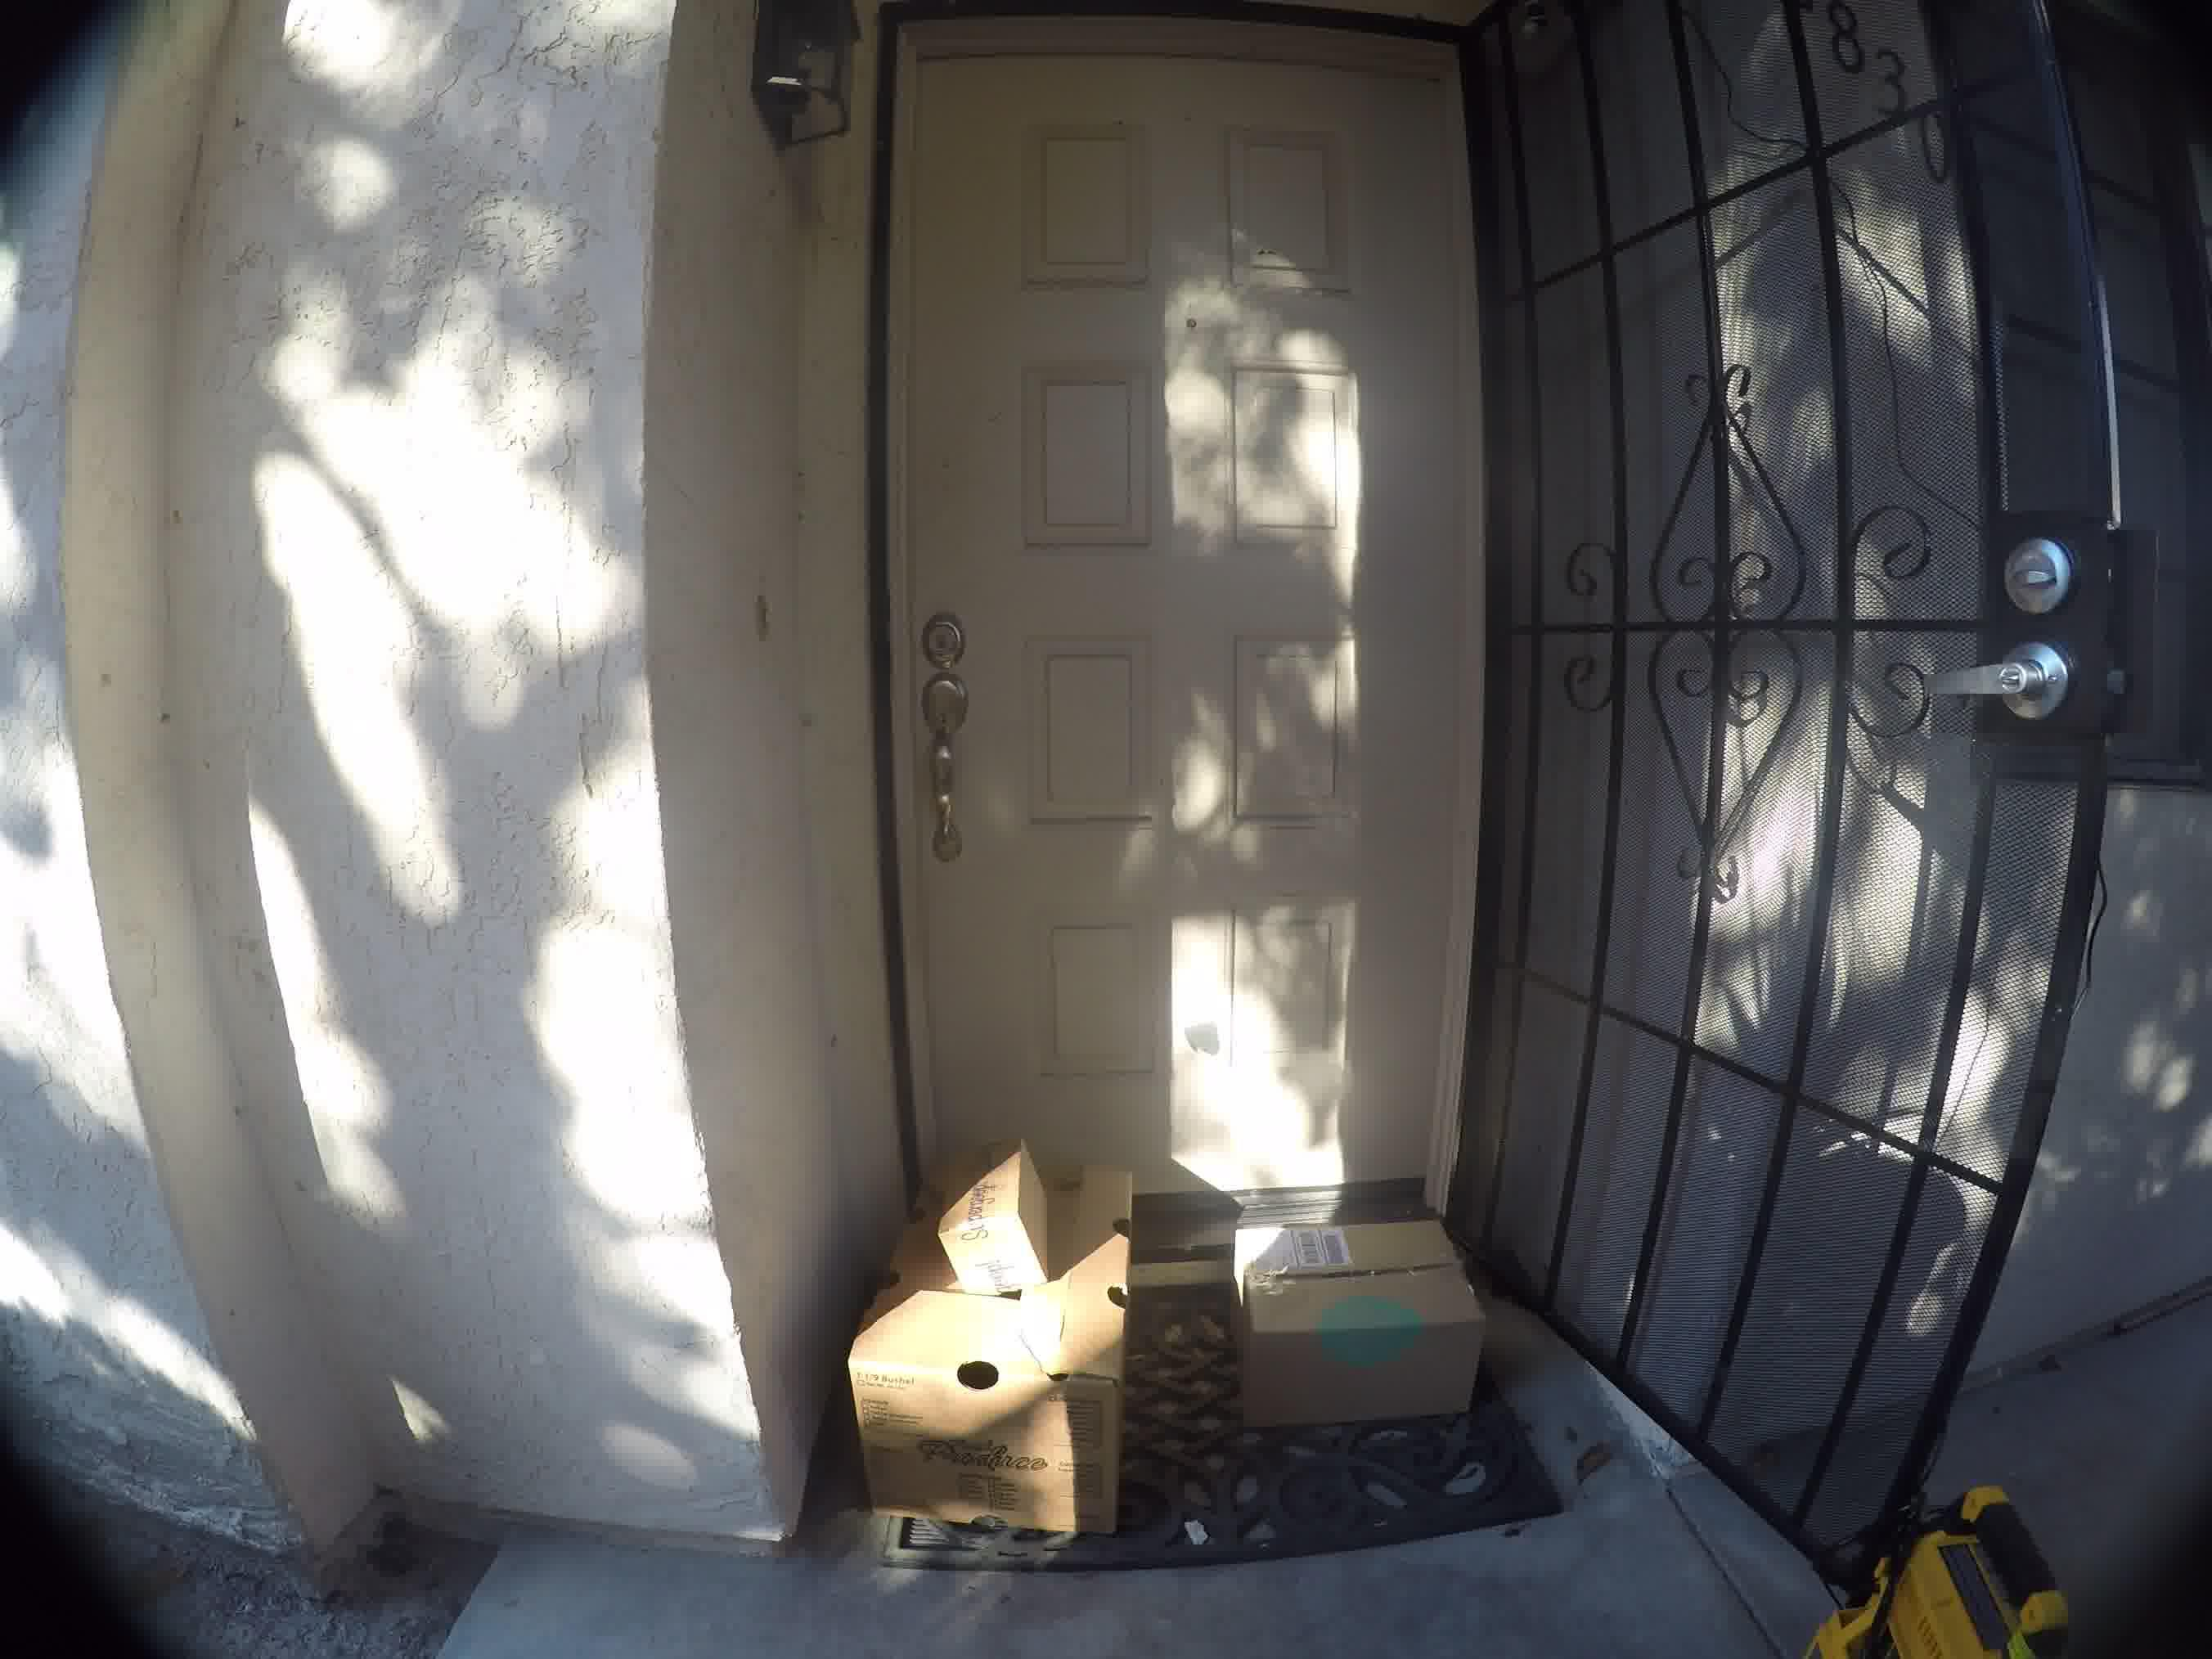box: (862, 1136, 1148, 1553), (1223, 1197, 1512, 1419)
